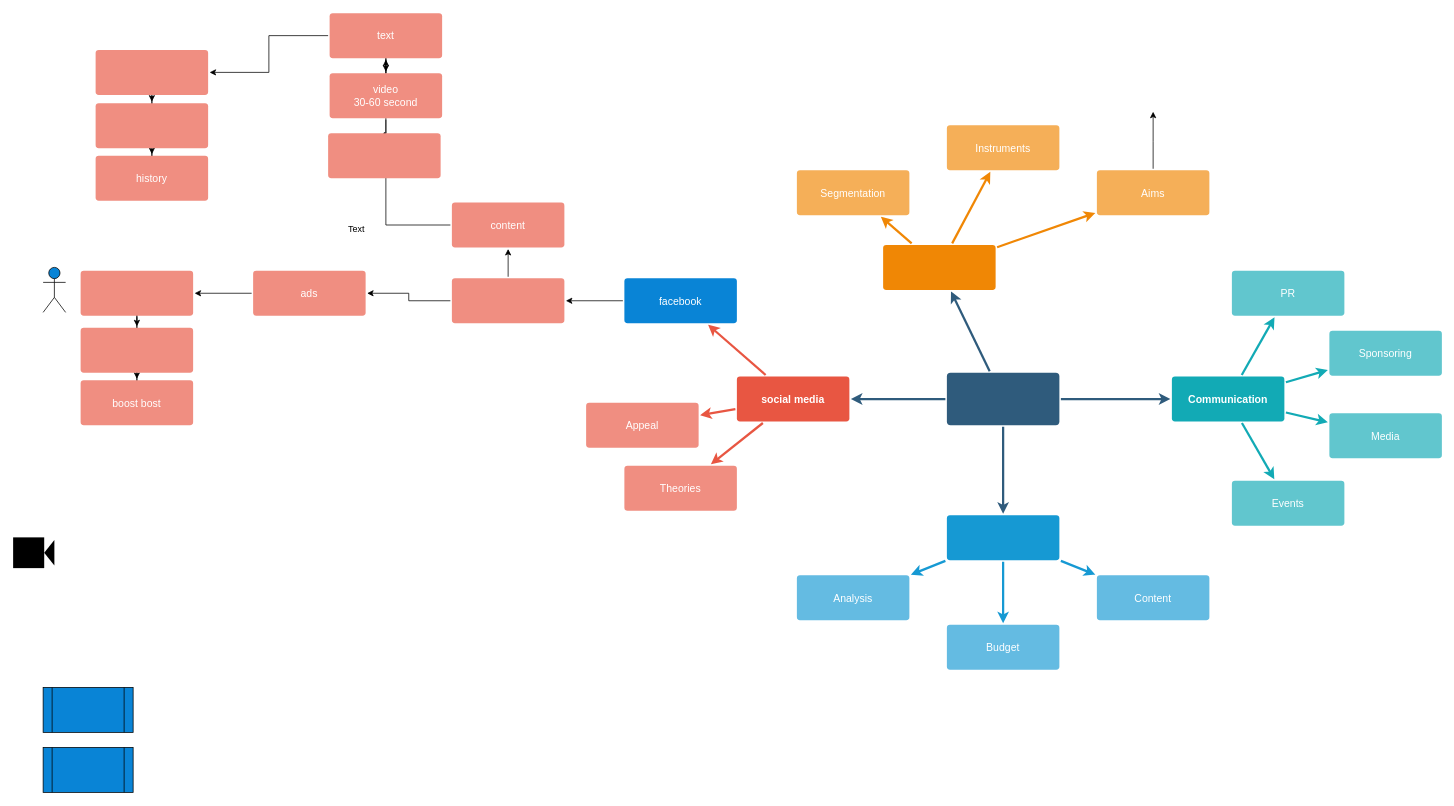
Image size: 1454x806. Some labels were removed from this diagram. Each missing label, with the box of its shape:
Actor: (42, 267, 66, 312)
brand: (95, 103, 208, 148)
educational: (95, 50, 208, 94)
engagement: (80, 270, 193, 315)
image size/quality: (328, 133, 440, 178)
Marketing: (883, 244, 995, 290)
Organization: (946, 515, 1059, 560)
target audince egyption: (452, 278, 564, 323)
traffic: (80, 327, 193, 372)
website: (946, 372, 1059, 425)
